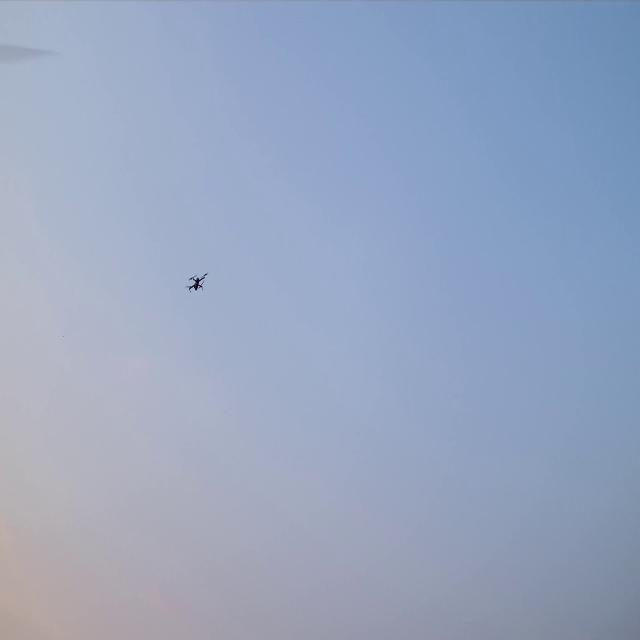UAV: (189, 274, 206, 291)
